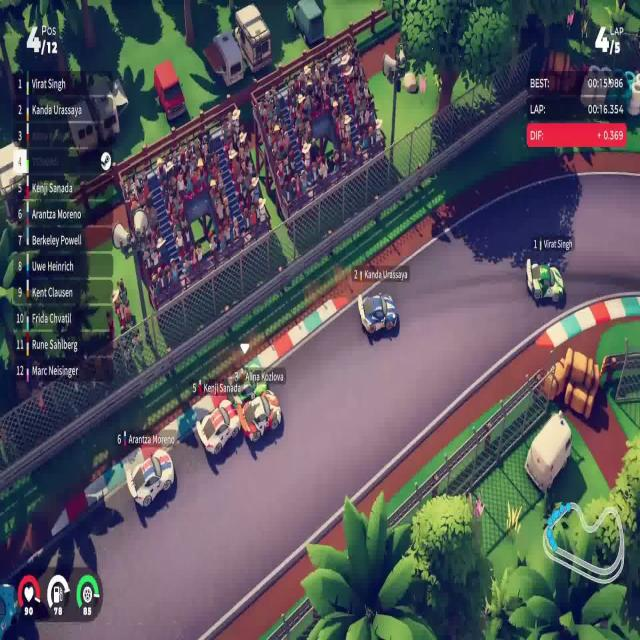car: (125, 446, 175, 509), (195, 398, 241, 456), (237, 388, 282, 444), (357, 290, 398, 336), (525, 256, 564, 304)
